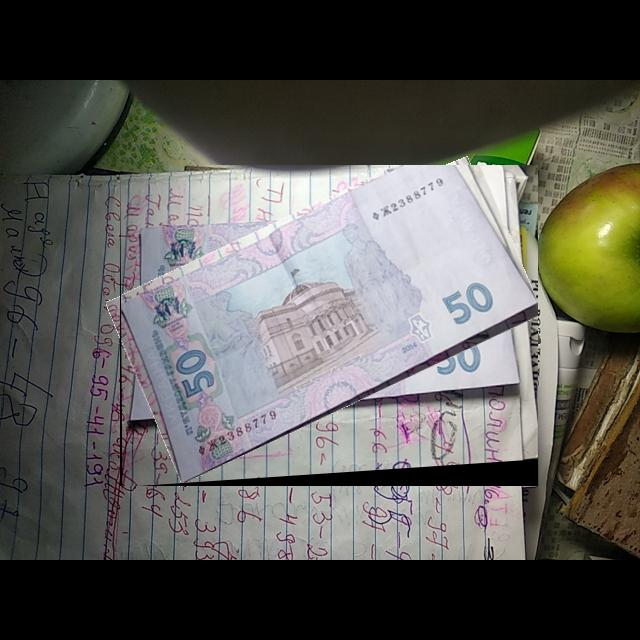50uah: (121, 165, 539, 485)
